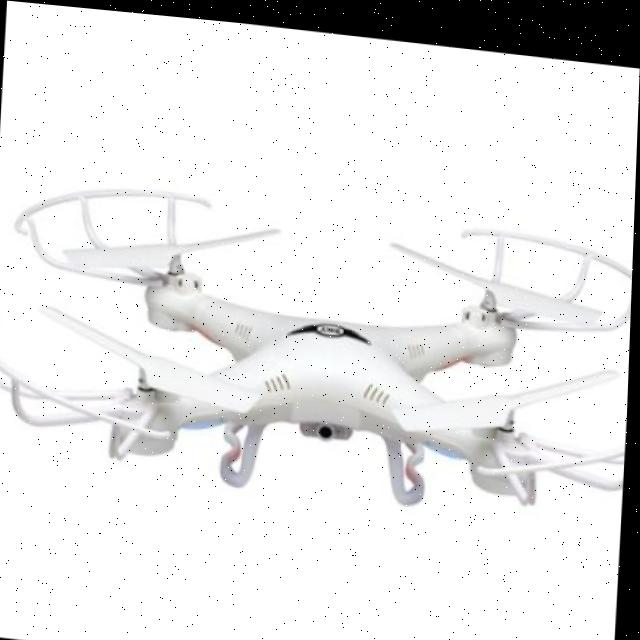drones: (0, 144, 636, 565)
